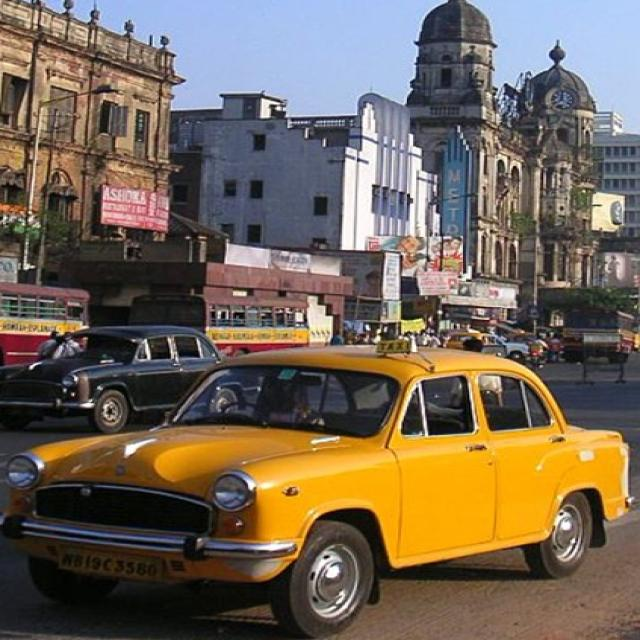bus: (130, 295, 313, 354), (0, 283, 87, 365), (562, 310, 635, 363)
car: (3, 344, 629, 637), (0, 326, 226, 433)
